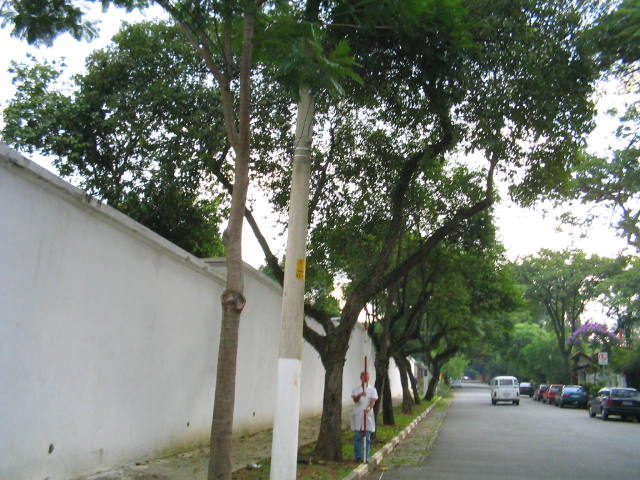crown: (65, 3, 603, 211)
stem: (304, 351, 355, 463)
stick: (357, 301, 371, 462)
tree: (63, 1, 604, 462)
